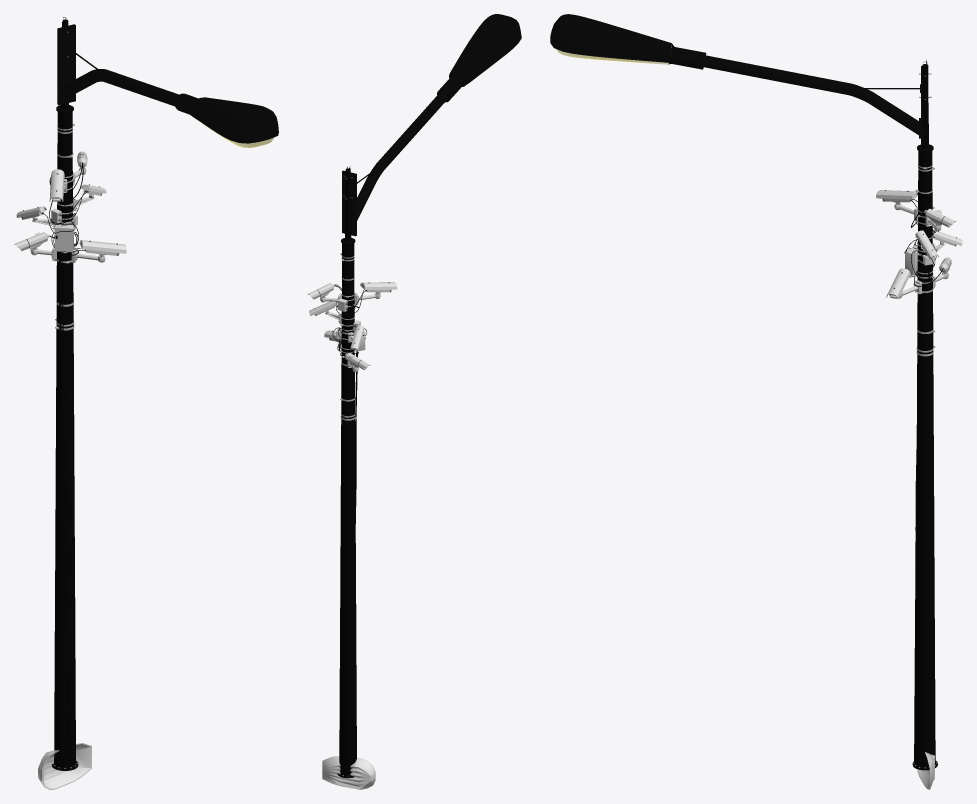
The model's file is street-light-1.glb.
3 views of the same model, side by side, from view 1: azimuth 30°, elevation 25°; view 2: azimuth 150°, elevation 25°; view 3: azimuth 270°, elevation 25° (orthographic). The views are drawn at different scales.
Visible parts, largest first — view 1: Object_2; view 2: Object_2; view 3: Object_2.
Boxes of the visible parts, bbox=[...] form: Object_2: bbox=[14, 17, 278, 789]; Object_2: bbox=[307, 14, 521, 789]; Object_2: bbox=[550, 14, 962, 789].
Size of the model in its own units: 1.51 by 14.23 by 6.96.
Materials: 12 (1 with a texture image).
